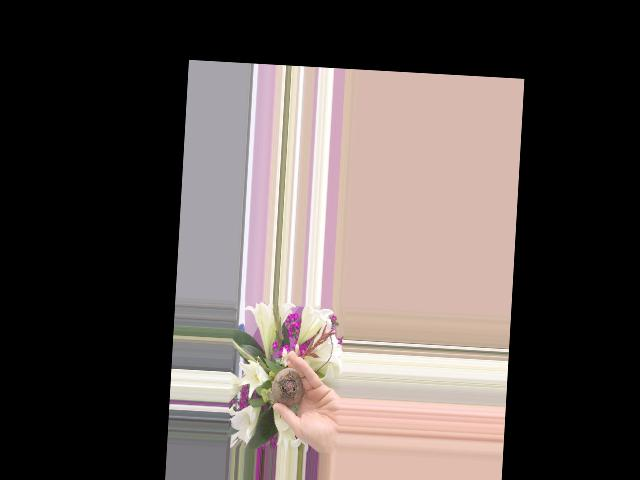beet: (271, 365, 305, 407)
